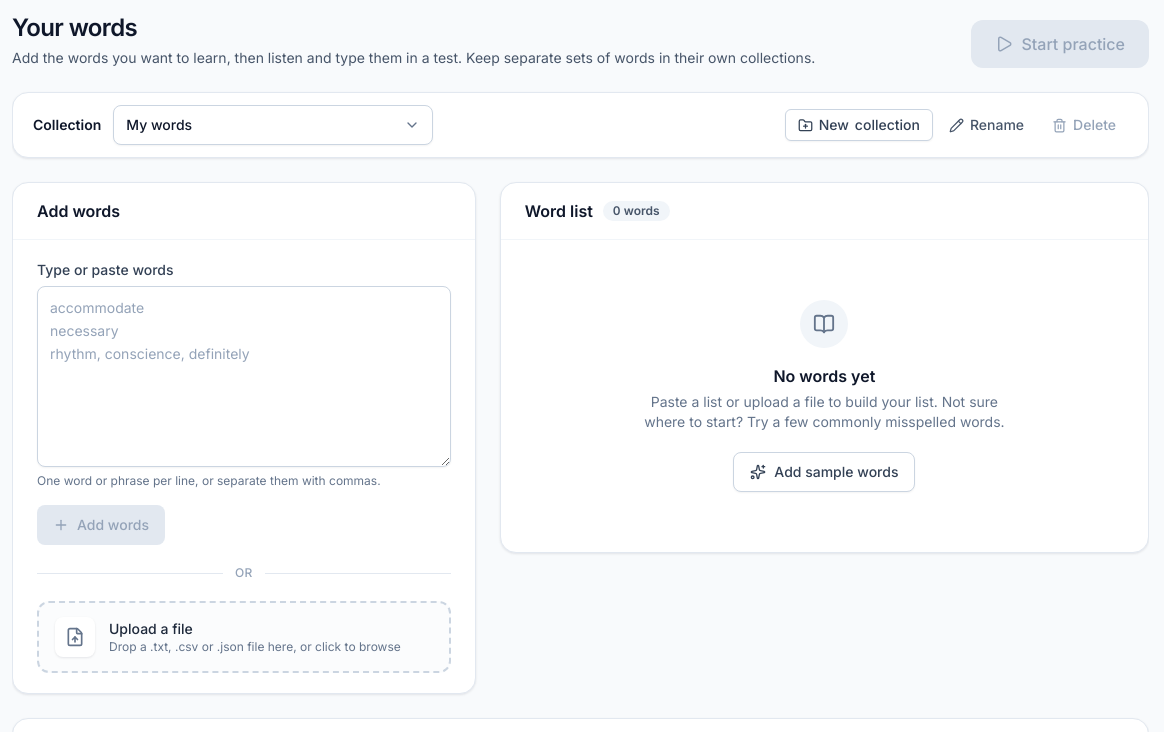
Test: WordLibrary › adds sample words from the empty state
What coordinates should you click on to do the following:
click the button "Add sample words"
I would click on:
 (824, 472)
Its box is left=733, top=452, right=915, bottom=492.
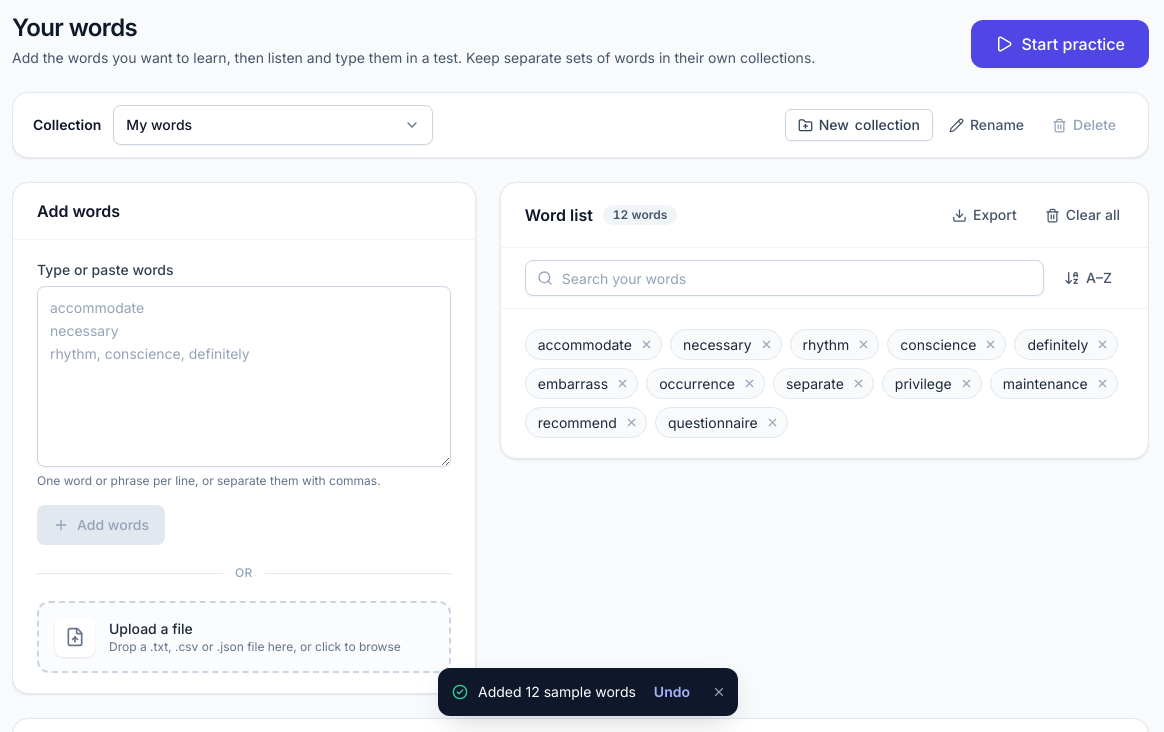
Check: the text "rhythm" is shown, box left=803, top=334, right=849, bottom=354
